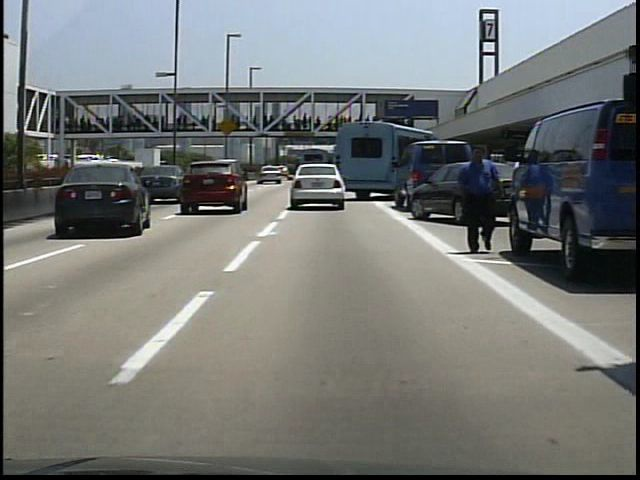person: (452, 147, 503, 255)
